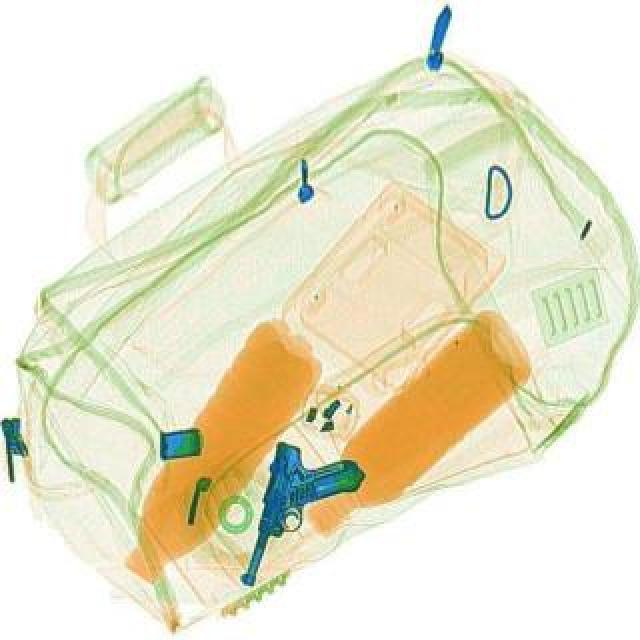gun: (232, 434, 374, 606)
